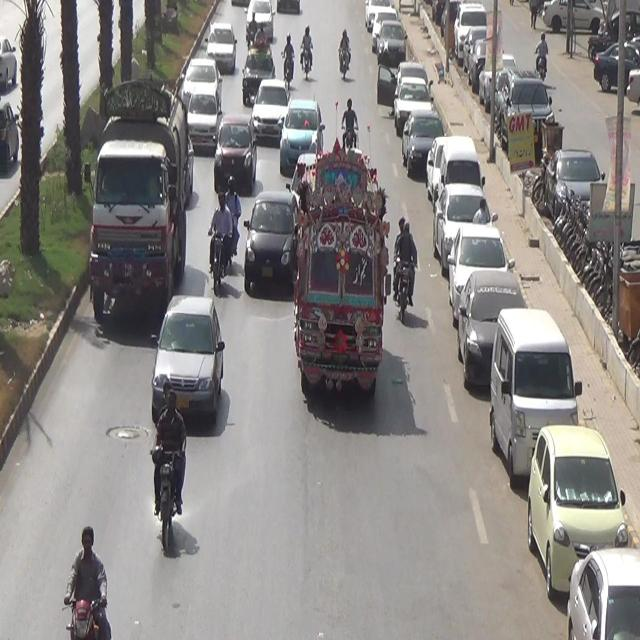car: (152, 278, 229, 452), (239, 182, 296, 319), (173, 78, 224, 158), (215, 106, 261, 191), (273, 92, 324, 165), (196, 7, 240, 80), (253, 75, 297, 144), (181, 47, 222, 107)
motorbike: (149, 377, 186, 578), (53, 520, 113, 636), (199, 187, 236, 297), (395, 206, 421, 342), (297, 19, 320, 90), (337, 88, 359, 158), (335, 28, 359, 92), (277, 35, 301, 90)
truck: (78, 95, 186, 321)
